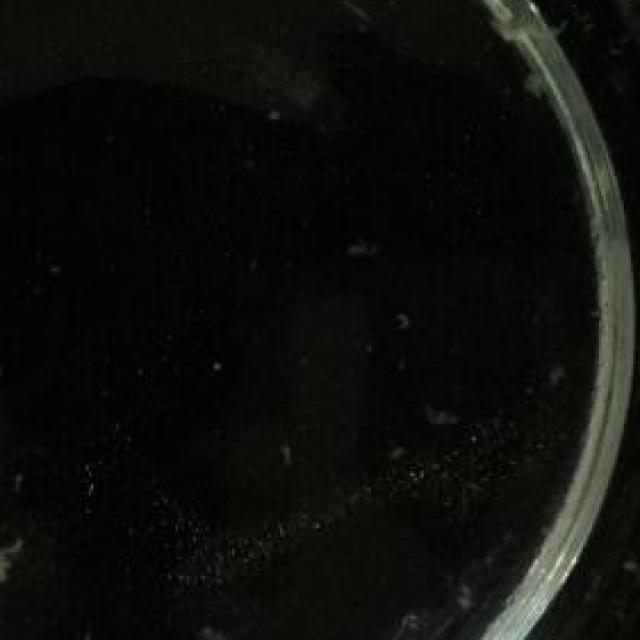Microplastic: (344, 573, 480, 640), (184, 602, 250, 640), (412, 383, 465, 426), (533, 347, 588, 388), (519, 50, 551, 105), (0, 514, 18, 578)
